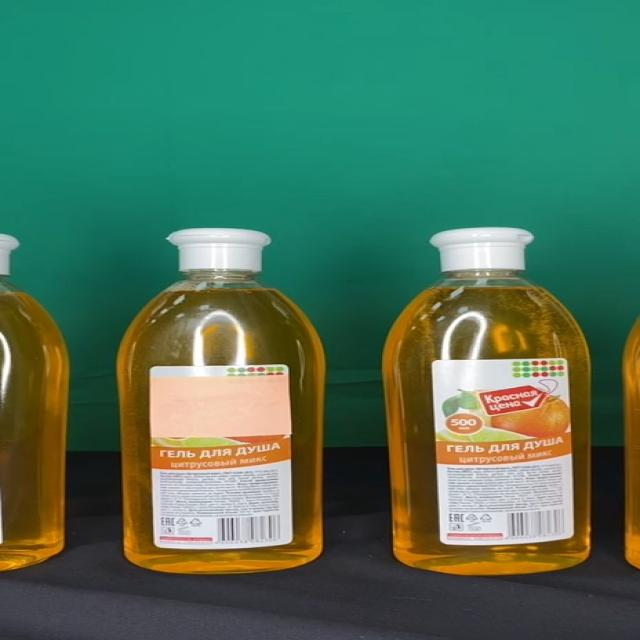Bottle: (383, 228, 592, 576), (116, 228, 325, 574)
Cap: (428, 228, 534, 272), (166, 228, 270, 271)
